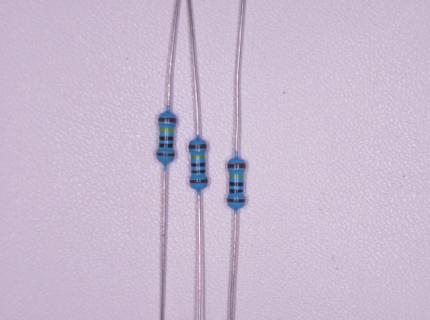Black band: (160, 136, 173, 141), (191, 162, 206, 166), (229, 182, 244, 186), (159, 144, 172, 148), (230, 189, 243, 193), (191, 170, 206, 173)
Brown band: (189, 143, 206, 149), (158, 117, 176, 122), (228, 164, 246, 168), (190, 179, 208, 183), (228, 198, 246, 202), (157, 152, 174, 156)
Yellow band: (230, 173, 244, 178), (159, 128, 173, 132), (192, 154, 205, 158)
